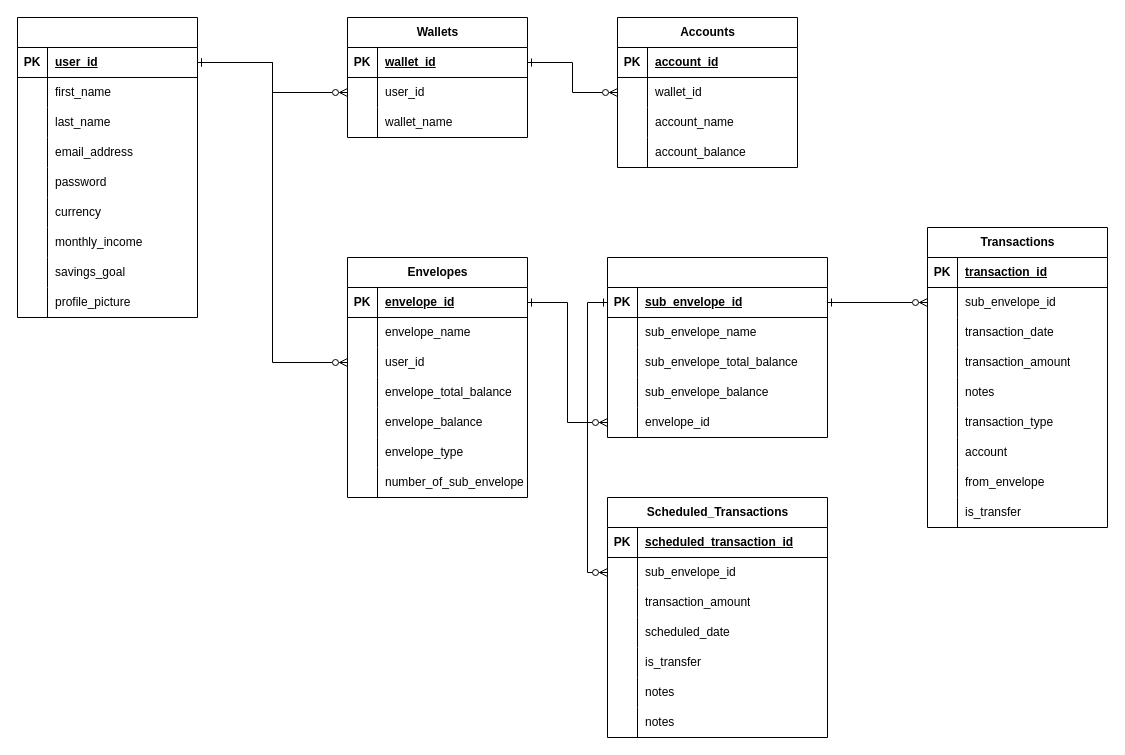
Some shapes in this 1125 by 755 pixel diagram are drawn without their labels. The box of each missing label's shape, as (x1, y1, x2, y2) in pixels:
Sub_Envelopes: (606, 256, 828, 438)
User_Profile: (16, 16, 198, 318)
